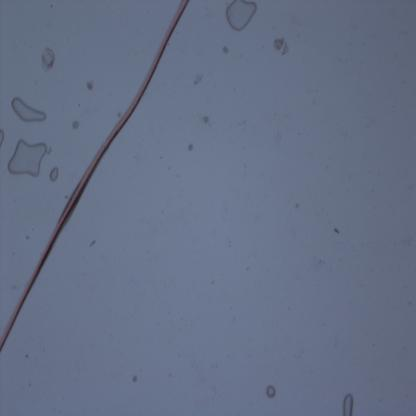Air bubble: (8, 137, 47, 176), (226, 0, 257, 32), (12, 98, 47, 123), (342, 391, 354, 415), (47, 166, 60, 186), (266, 383, 275, 399), (0, 130, 6, 146)
Background material: (38, 45, 58, 76), (272, 38, 290, 56), (193, 72, 203, 88), (200, 112, 210, 127), (86, 79, 96, 92), (71, 119, 81, 130), (221, 46, 229, 55)
Microfibre: (0, 0, 189, 348)
